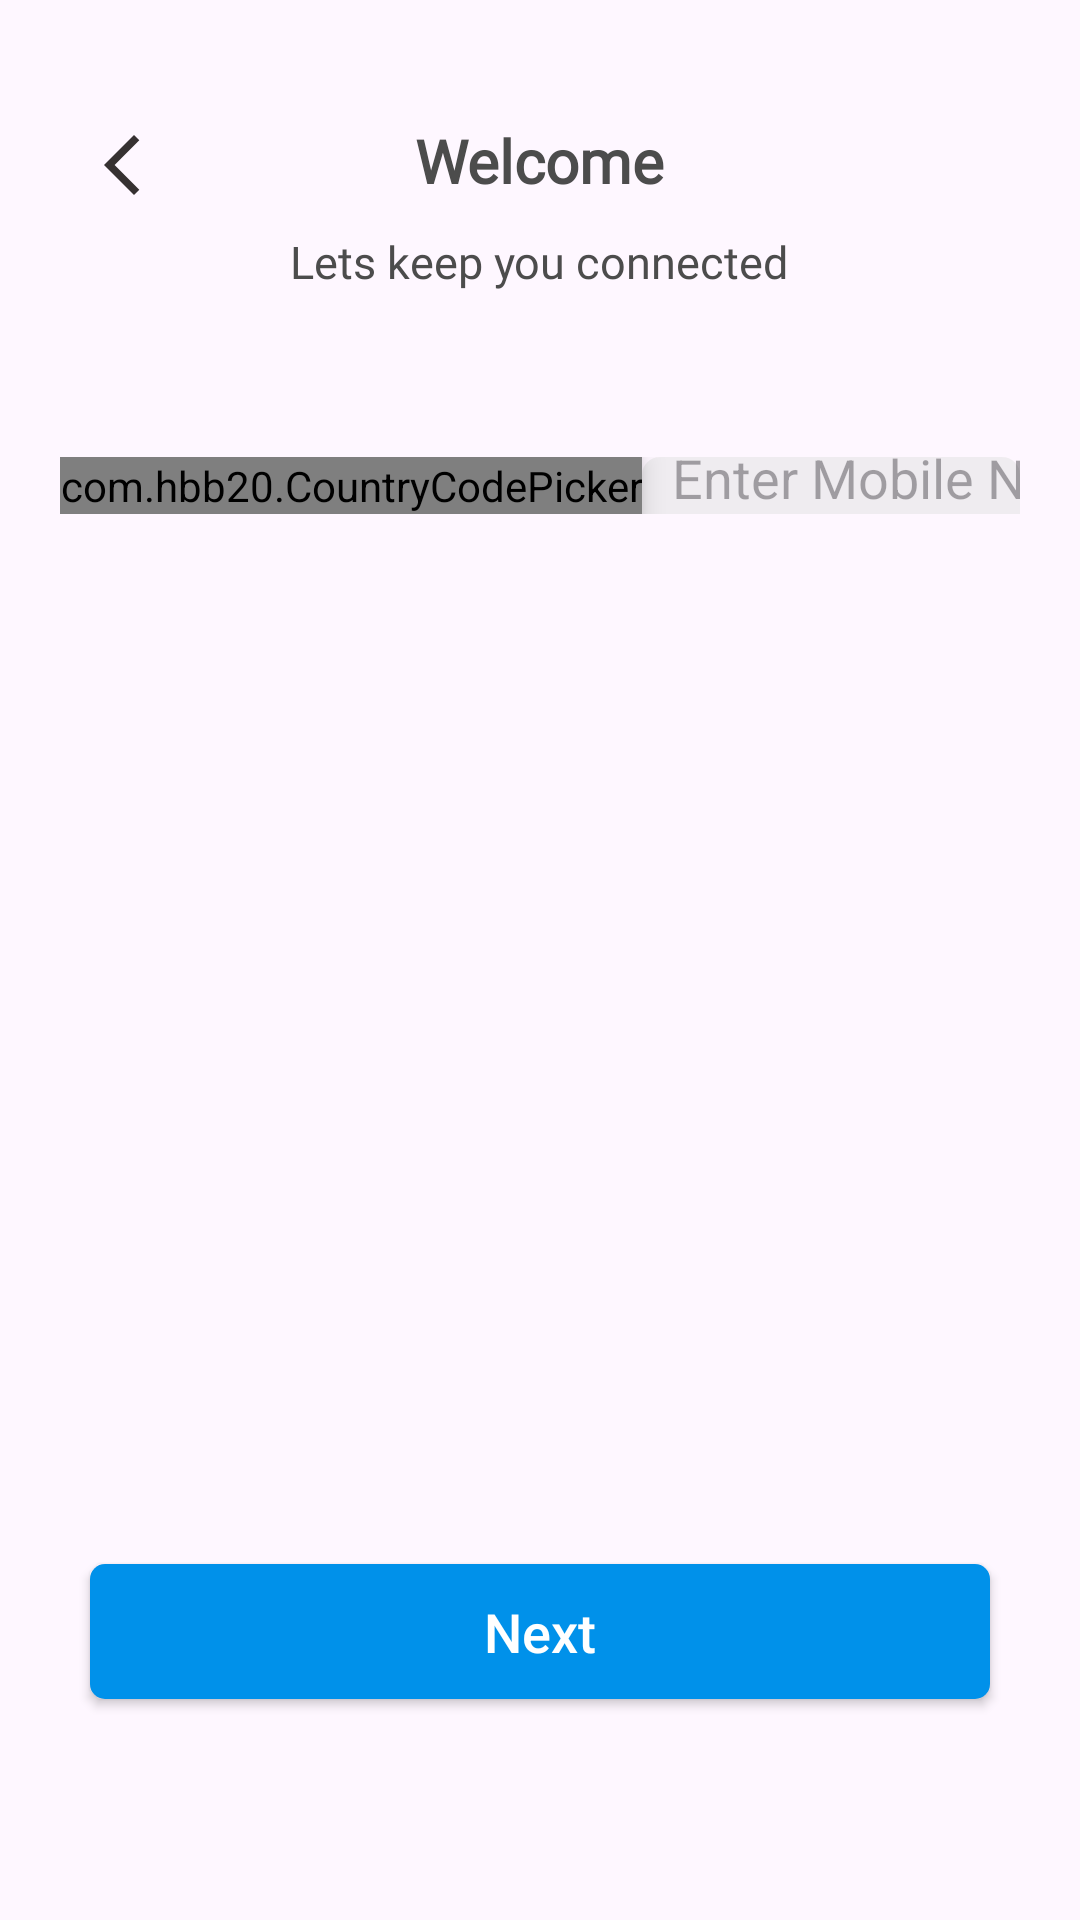

Named icons in this screenshot (1080x1920) and their centers, point (x, y):
Back Icon: point (121, 165)
